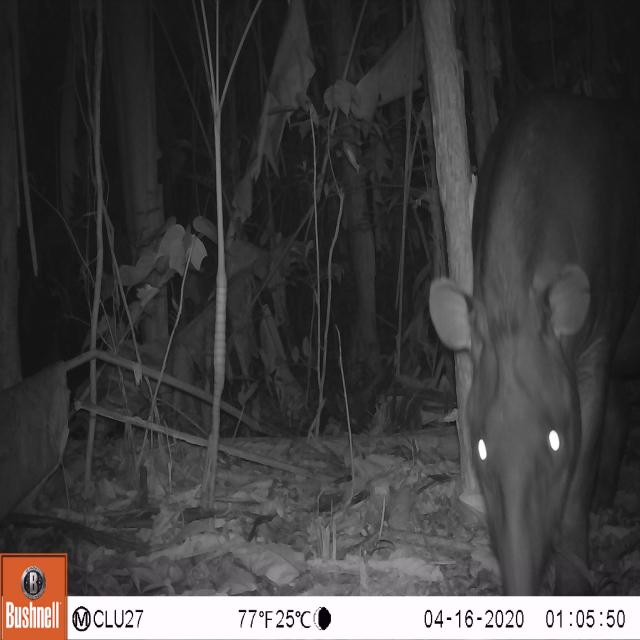Lowland Tapir: (422, 78, 640, 596)
